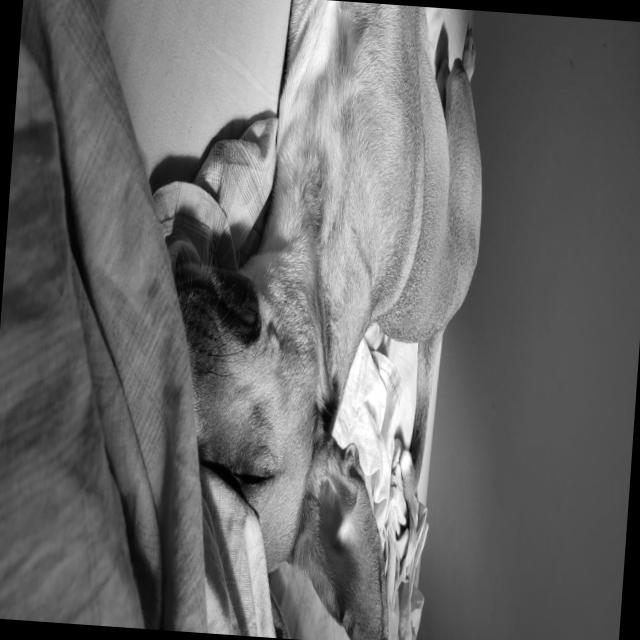laying down: (137, 0, 501, 640)
